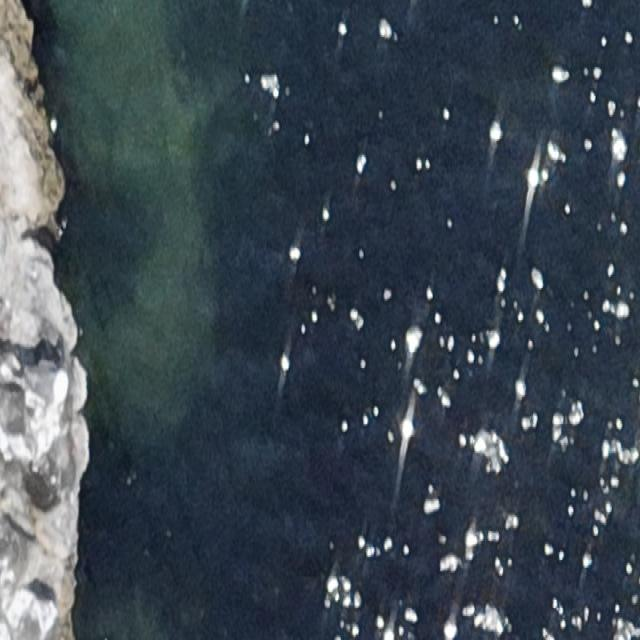umineko: (24, 360, 69, 405)
